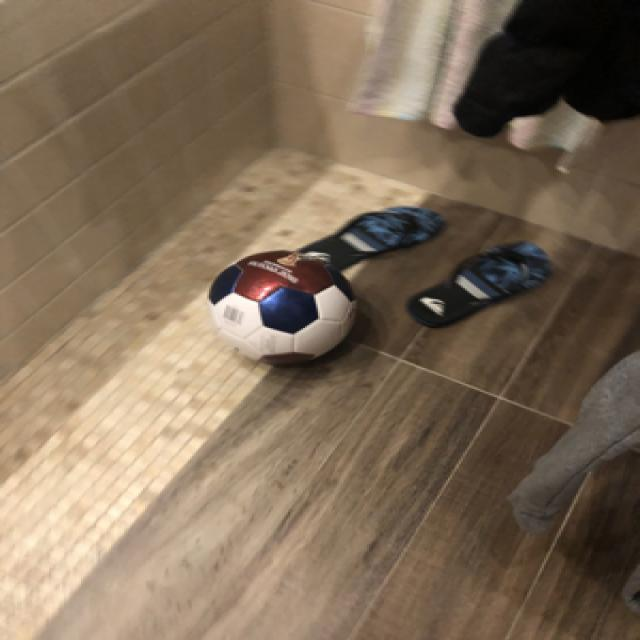soccer_ball: (200, 246, 360, 368)
